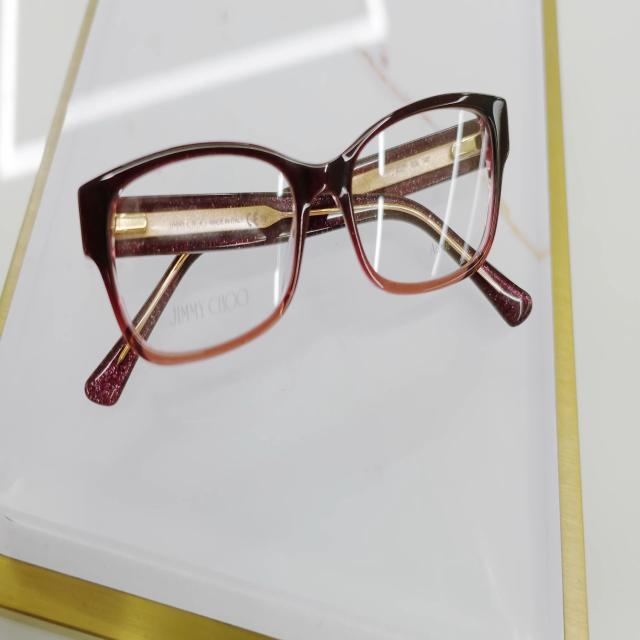glasses: (78, 88, 508, 368)
